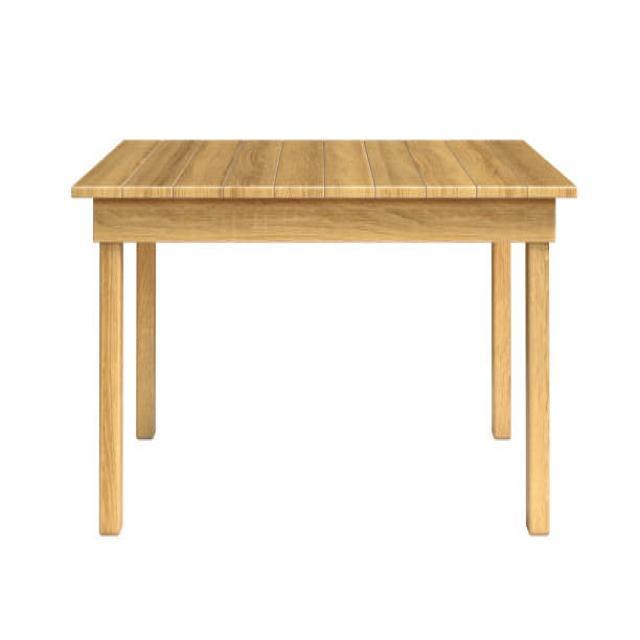table: (70, 136, 577, 538)
